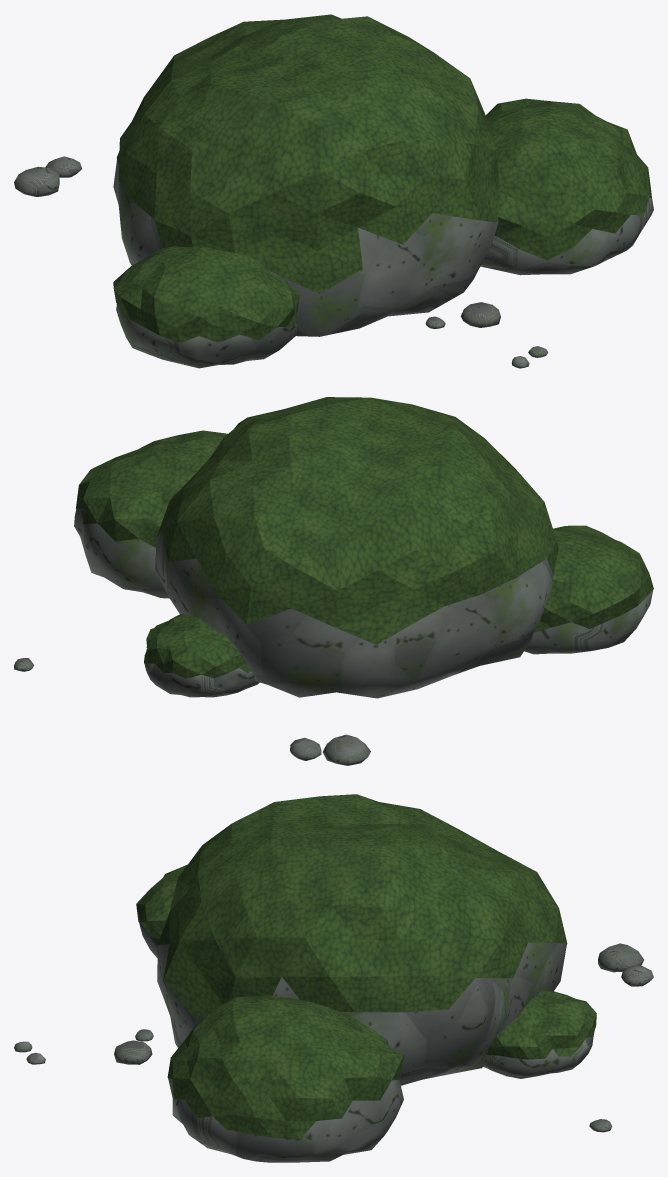
Rendered from moss_boulder_cluster.glb.
The picture shows the model from 3 angles, top to bottom: view 1: azimuth 30°, elevation 25°; view 2: azimuth 150°, elevation 25°; view 3: azimuth 270°, elevation 25°; orthographic projection. The views are drawn at different scales.
Visible parts, largest first — view 1: moss_boulder_cluster__moss, moss_boulder_cluster__stone_block; view 2: moss_boulder_cluster__moss, moss_boulder_cluster__stone_block; view 3: moss_boulder_cluster__moss, moss_boulder_cluster__stone_block.
Boxes of the visible parts, <box> form: moss_boulder_cluster__moss: <box>113,14,651,342</box>; moss_boulder_cluster__stone_block: <box>14,156,653,368</box>; moss_boulder_cluster__moss: <box>76,397,653,678</box>; moss_boulder_cluster__stone_block: <box>14,508,653,765</box>; moss_boulder_cluster__moss: <box>136,794,596,1138</box>; moss_boulder_cluster__stone_block: <box>14,922,653,1162</box>.
Bounding box in the file's own units: 3.54 × 1.3 × 3.68.
Materials: 2 (2 with a texture image).
